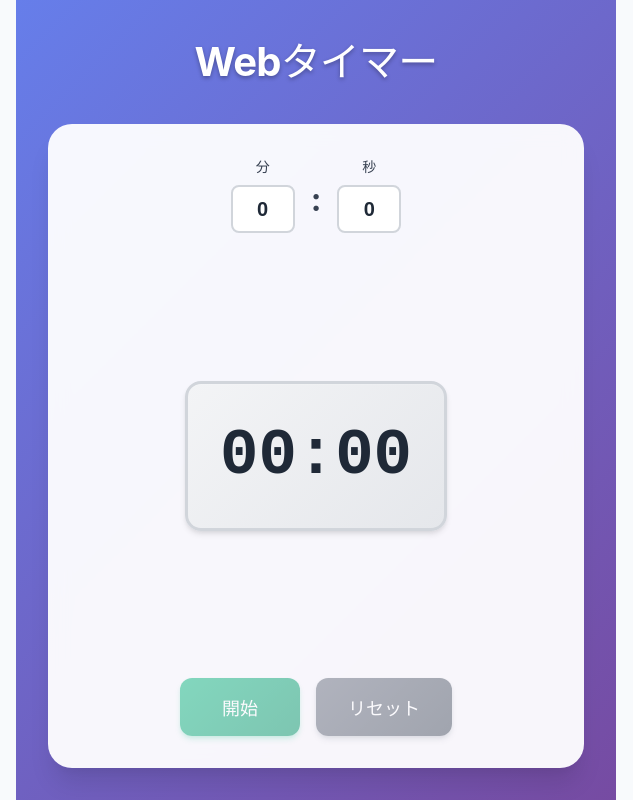
Test case: App Integration Tests › 基本的なレンダリング › タイマーの開始・停止が動作する
This screenshot has width=633, height=800.
In the field named "秒を入力": (369, 209) [337, 185, 401, 233], type "10"
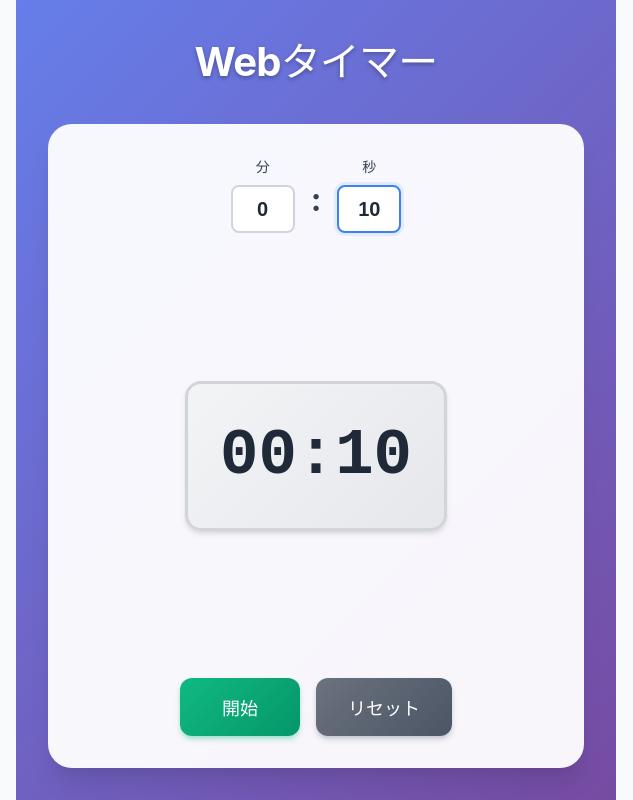
Note:  タイマーを開始
Click the button "開始": (240, 707) [180, 678, 300, 736]
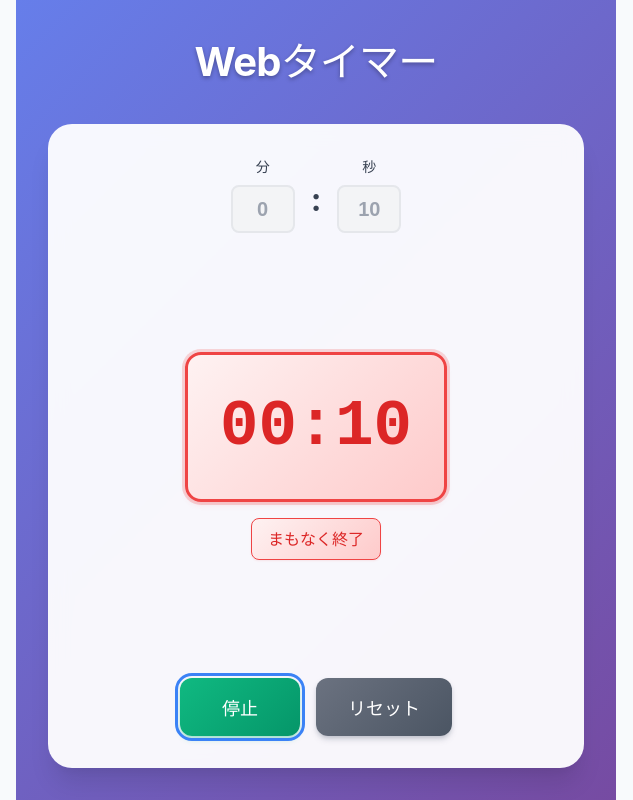
Expected: the button "停止" is shown
Expected: the field named "分を入力" is disabled, [231, 185, 295, 233]
Expected: the field named "秒を入力" is disabled, [337, 185, 401, 233]
Note:  タイマーを停止
Click the button "停止": (240, 707) [180, 678, 300, 736]
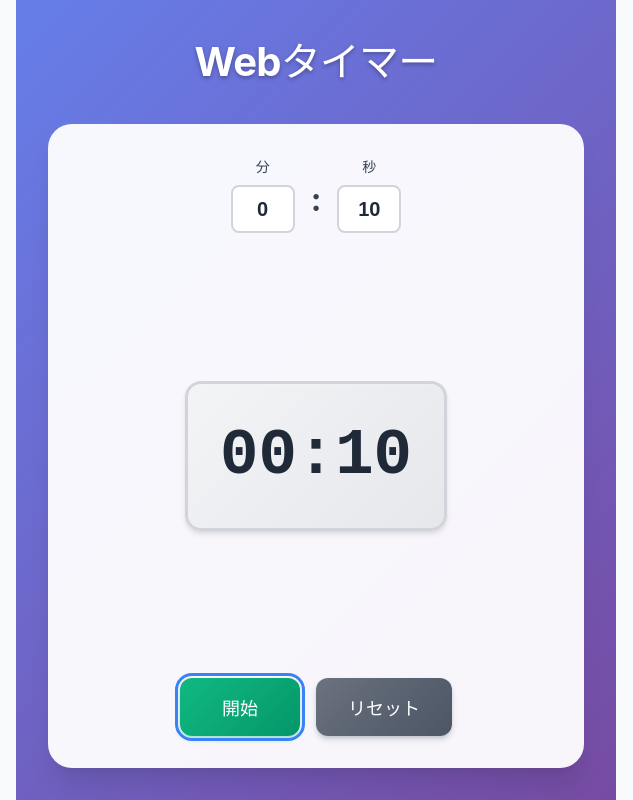
Expected: the button "開始" is shown, [180, 678, 300, 736]
Expected: the field named "分を入力" is enabled, [231, 185, 295, 233]
Expected: the field named "秒を入力" is enabled, [337, 185, 401, 233]
